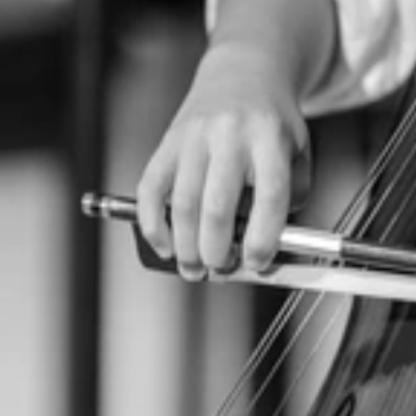good: (124, 110, 324, 284)
